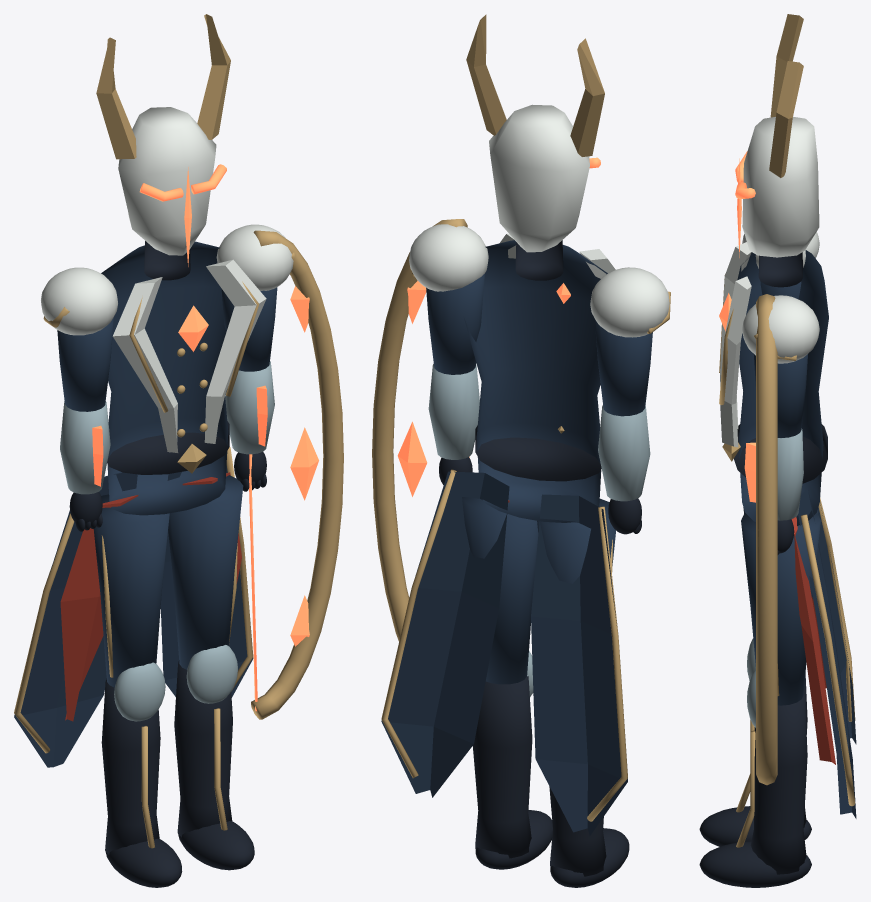
Rendered from cantor.glb.
The picture shows the model from 3 angles, left to right: view 1: azimuth 30°, elevation 25°; view 2: azimuth 150°, elevation 25°; view 3: azimuth 270°, elevation 25°; orthographic projection. The views are drawn at different scales.
Parts seen in each view (by area): view 1: belt clasp, crown horn, coat lining, bow crystal, boot gold rail.001, boot gold rail, fitted trousers, fitted trousers.001, pauldron.001, shoulder edge.001, finger.001, coat lining.001 (+1 smaller); view 2: belt clasp, coat lining.001, coat lining, crown horn, boot gold rail.001, bow crystal, pauldron.001, shoulder edge.001, fitted trousers.001, finger.001, finger.005, boot gold rail (+1 smaller); view 3: belt clasp, crown horn, boot gold rail.001, bow crystal, coat lining.001, fitted trousers.001, shoulder edge.001, finger.005, coat lining, boot gold rail, pauldron.001.
Part boxes in pixels (<box>): belt clasp: <box>101,241,266,515</box>; crown horn: <box>96,14,230,266</box>; coat lining: <box>14,472,138,767</box>; bow crystal: <box>249,230,343,719</box>; boot gold rail.001: <box>174,645,254,870</box>; boot gold rail: <box>101,662,182,887</box>; fitted trousers: <box>93,494,169,687</box>; fitted trousers.001: <box>168,475,243,669</box>; pauldron.001: <box>41,267,117,411</box>; shoulder edge.001: <box>216,224,294,371</box>; finger.001: <box>60,401,110,531</box>; coat lining.001: <box>160,447,253,697</box>; belt clasp: <box>464,233,615,522</box>; coat lining.001: <box>381,469,509,797</box>; coat lining: <box>531,494,627,836</box>; crown horn: <box>466,14,604,252</box>; boot gold rail.001: <box>472,651,552,869</box>; bow crystal: <box>372,219,469,641</box>; pauldron.001: <box>590,267,670,416</box>; shoulder edge.001: <box>409,224,488,374</box>; fitted trousers.001: <box>462,497,538,684</box>; finger.001: <box>598,405,650,534</box>; finger.005: <box>428,364,479,484</box>; boot gold rail: <box>549,786,629,887</box>; belt clasp: <box>719,242,828,525</box>; crown horn: <box>735,14,819,257</box>; boot gold rail.001: <box>699,670,811,887</box>; bow crystal: <box>756,294,777,785</box>; coat lining.001: <box>791,488,856,818</box>; fitted trousers.001: <box>741,513,820,705</box>; shoulder edge.001: <box>742,295,819,437</box>; finger.005: <box>744,428,803,554</box>; coat lining: <box>812,497,856,744</box>; boot gold rail: <box>699,638,811,846</box>; pauldron.001: <box>742,232,819,298</box>.
Size of the model in its own units: 0.904 by 2.47 by 0.424.
